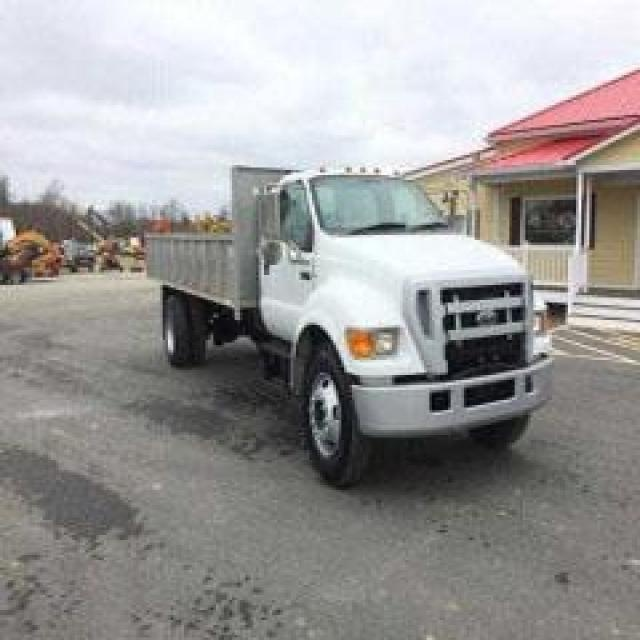truck: (117, 104, 568, 524)
